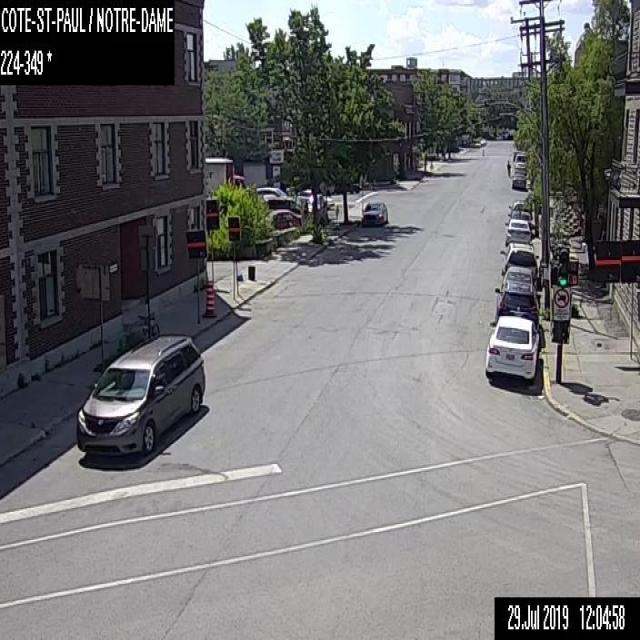construction: (203, 278, 216, 318)
pedestrian: (506, 158, 510, 178)
vehicle: (76, 334, 205, 456), (484, 316, 539, 380), (494, 278, 540, 322), (499, 241, 538, 274), (502, 265, 534, 293), (298, 188, 334, 209), (504, 217, 530, 244), (270, 208, 301, 227), (361, 202, 387, 222), (508, 199, 532, 217), (265, 198, 301, 210), (255, 187, 286, 197), (507, 209, 531, 221), (510, 173, 526, 188), (513, 162, 527, 174), (514, 153, 528, 163)
